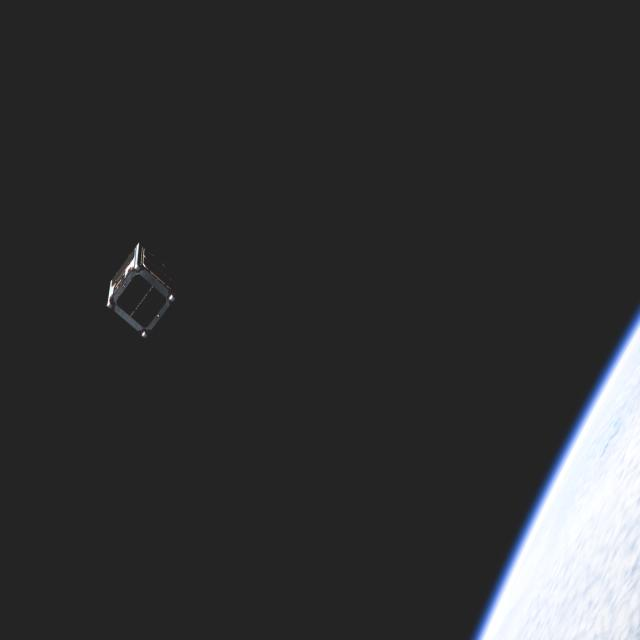medium_debris: (102, 240, 183, 348)
